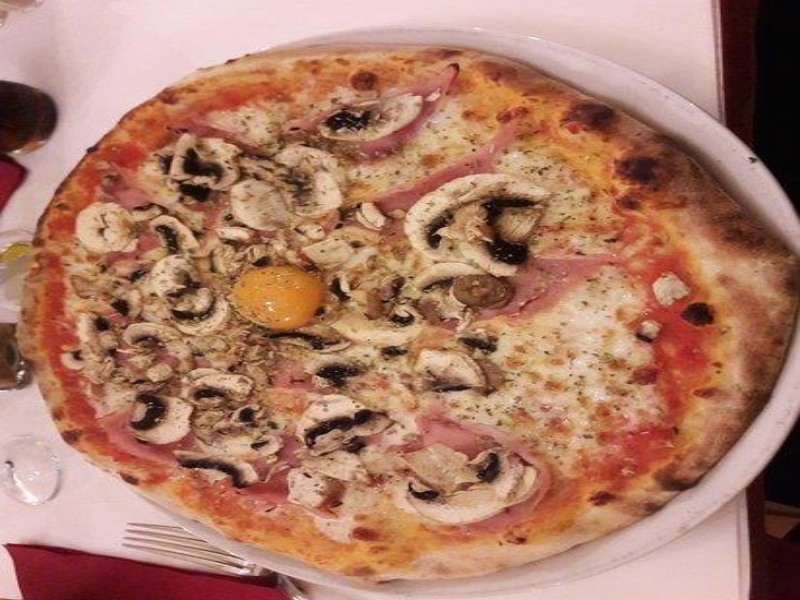champignon: (397, 168, 540, 284), (387, 436, 546, 533), (292, 390, 409, 453), (311, 91, 436, 141), (126, 389, 198, 452)
oeuf: (226, 256, 326, 339)
